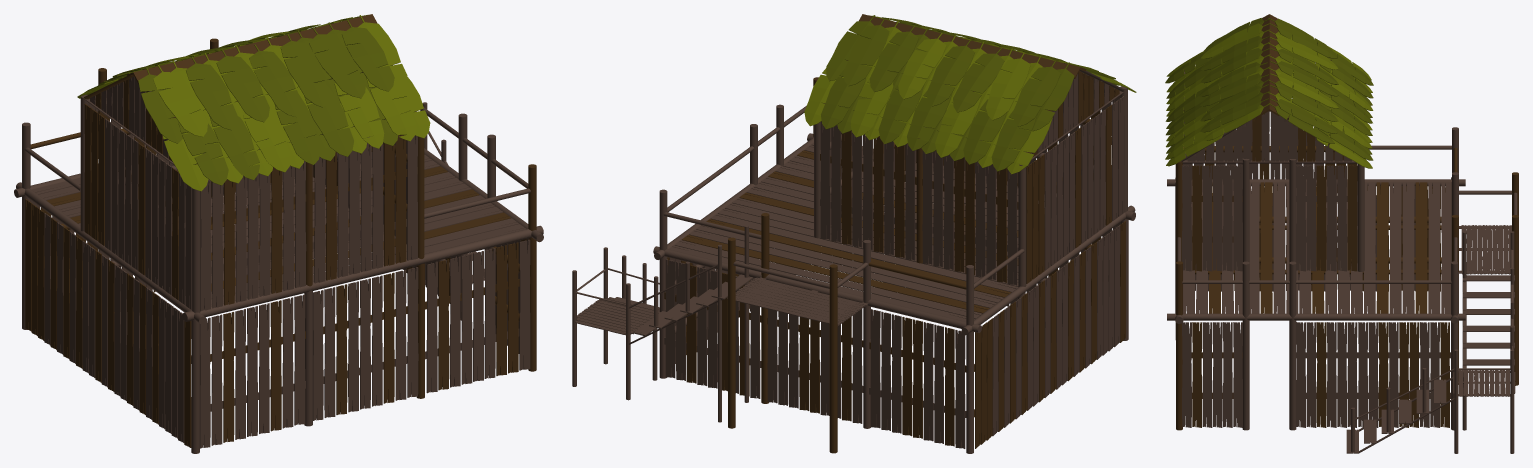
File: House3 1.fbx
3 views of the same model, side by side, from view 1: azimuth 30°, elevation 25°; view 2: azimuth 150°, elevation 25°; view 3: azimuth 270°, elevation 25° (orthographic). The views are drawn at different scales.
Parts seen in each view (by area): view 1: Home; view 2: Home; view 3: Home.
Part boxes in pixels (box(x1,y1,x2,y2)): Home: box(14, 14, 543, 453); Home: box(572, 14, 1136, 453); Home: box(1165, 14, 1518, 453).
Size of the model in its own units: 2504 by 1965 by 2256.
